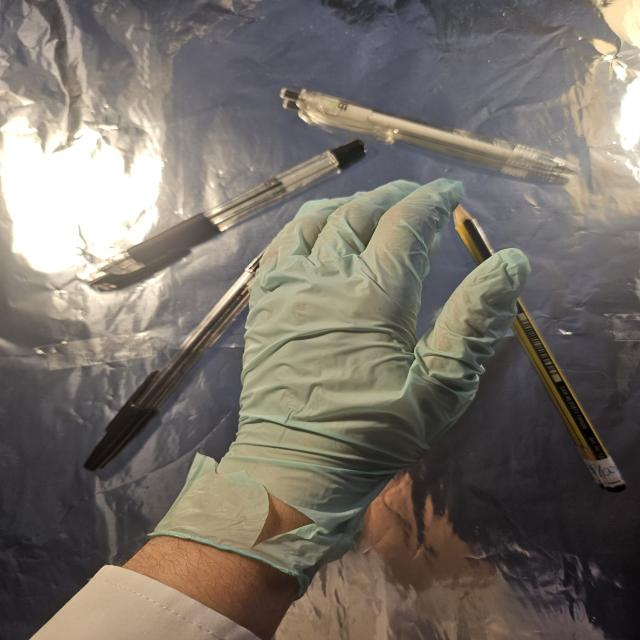gloves_damaged: (146, 177, 533, 598)
